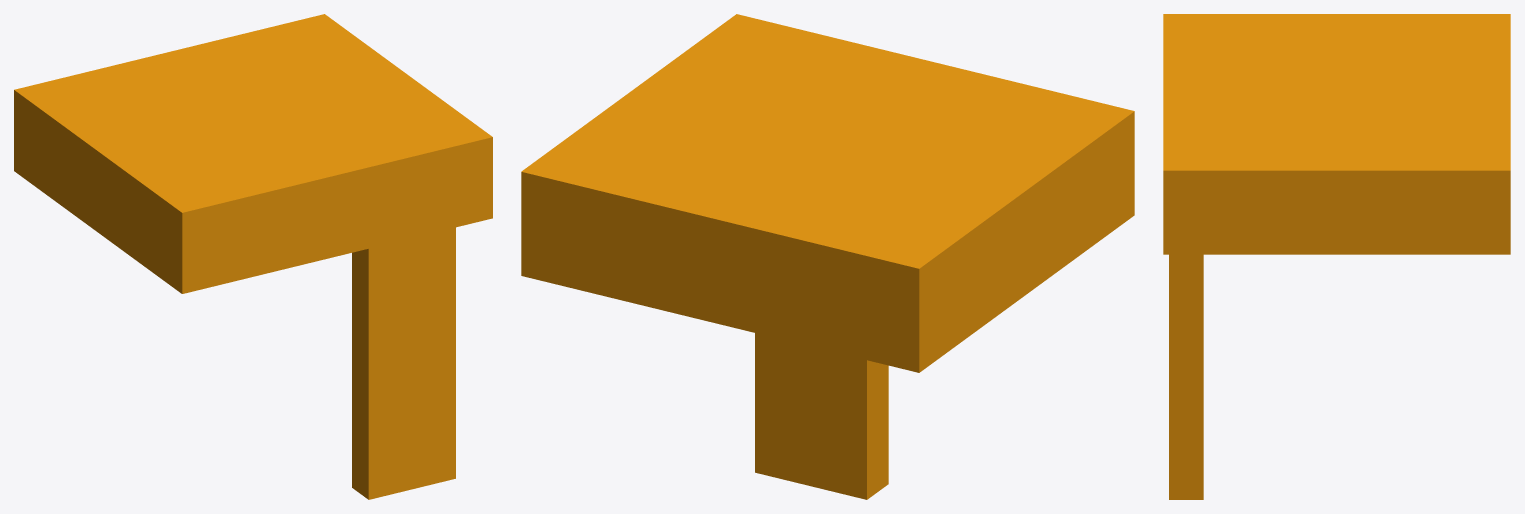
File: outfit_scarf.glb
3 renders of one model, left to right at view 1: azimuth 30°, elevation 25°; view 2: azimuth 150°, elevation 25°; view 3: azimuth 270°, elevation 25°, orthographic. The views are drawn at different scales.
Visible parts, largest first — view 1: scarf_ring, scarf_tail; view 2: scarf_ring, scarf_tail; view 3: scarf_ring, scarf_tail.
Part boxes in pixels (bbox=[...]): scarf_ring: bbox=[14, 14, 492, 293]; scarf_tail: bbox=[352, 227, 455, 499]; scarf_ring: bbox=[521, 14, 1134, 372]; scarf_tail: bbox=[755, 333, 888, 499]; scarf_ring: bbox=[1163, 14, 1510, 254]; scarf_tail: bbox=[1169, 254, 1203, 499].
Size of the model in its own units: 0.32 by 0.33 by 0.3.
